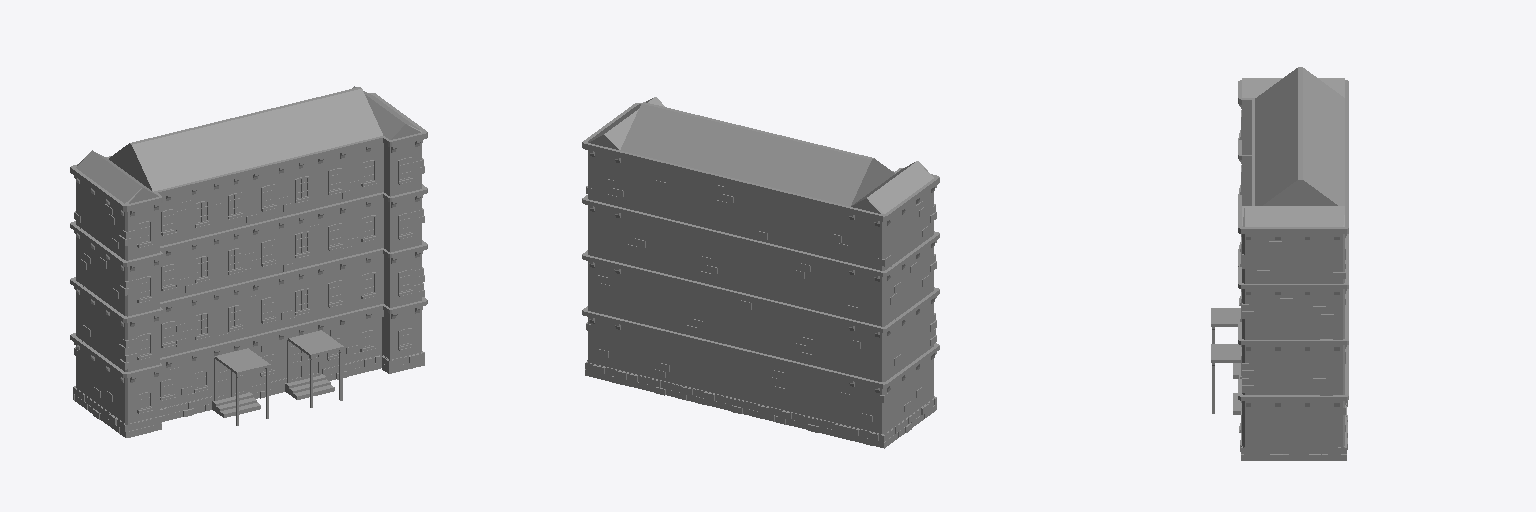
The model's file is 4Story_Wide_2Doors_Roof.obj.
3 renders of one model, left to right at view 1: azimuth 30°, elevation 25°; view 2: azimuth 150°, elevation 25°; view 3: azimuth 270°, elevation 25°, orthographic.
Visible parts, largest first — view 1: 4Story_Wide_2Doors_Roof_Cube.157; view 2: 4Story_Wide_2Doors_Roof_Cube.157; view 3: 4Story_Wide_2Doors_Roof_Cube.157.
Part boxes in pixels (x1,y1,x2,y2): 4Story_Wide_2Doors_Roof_Cube.157: (70, 86, 427, 437); 4Story_Wide_2Doors_Roof_Cube.157: (582, 97, 939, 448); 4Story_Wide_2Doors_Roof_Cube.157: (1211, 67, 1348, 460).
Size of the model in its own units: 6.83 by 5.68 by 2.7.